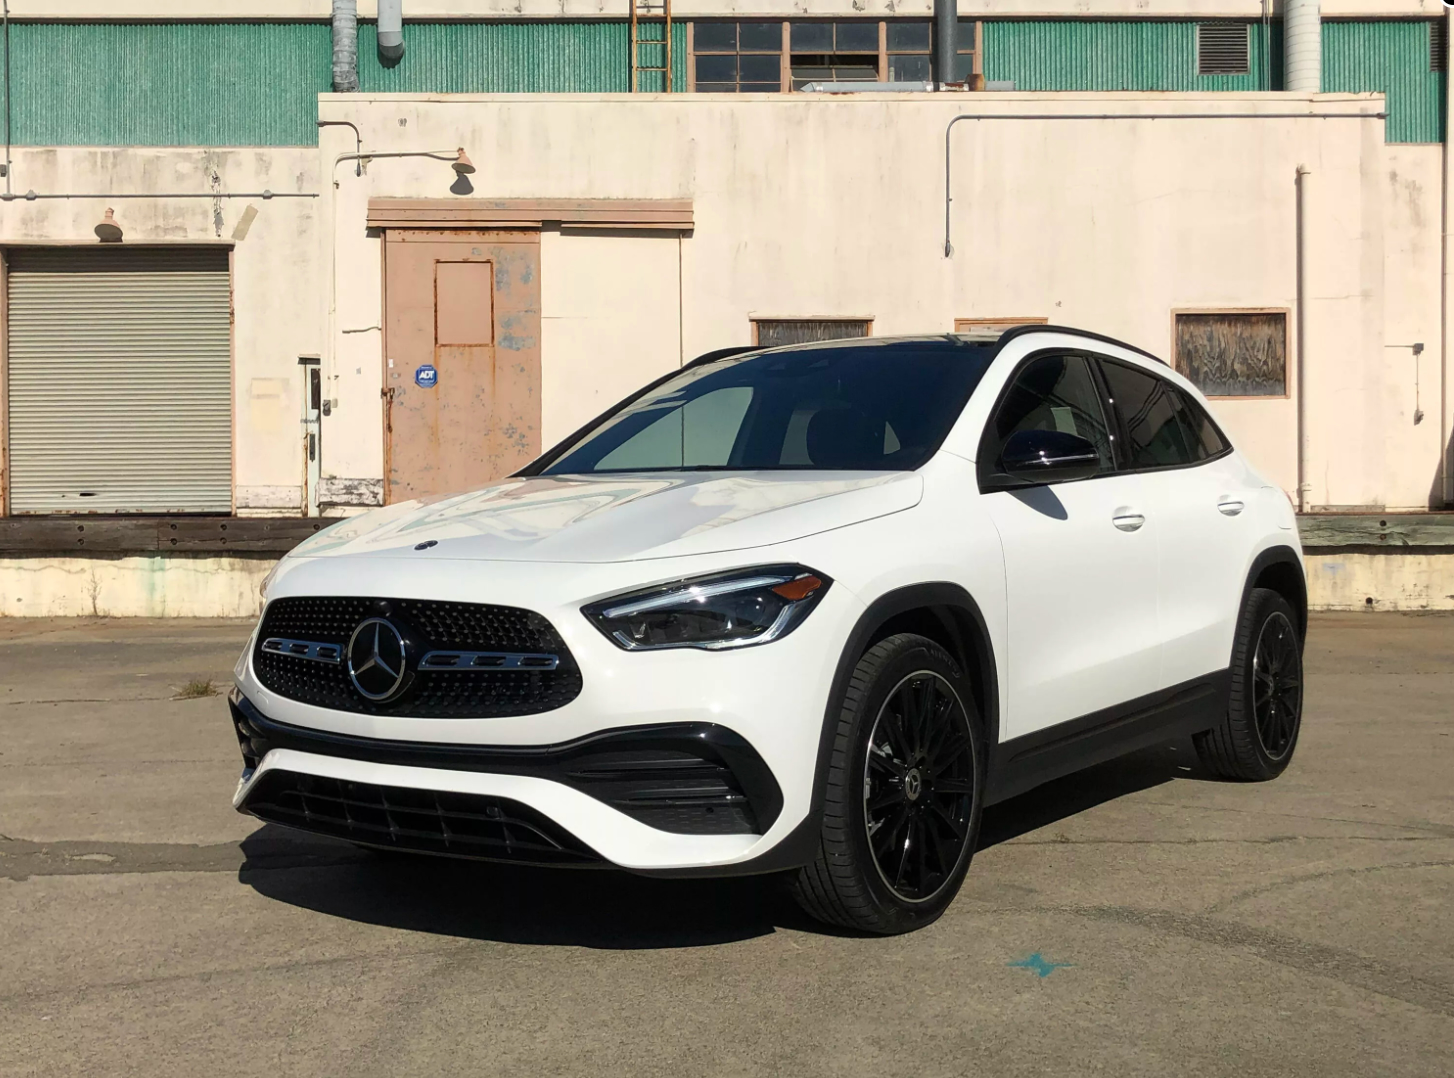car: (226, 324, 1307, 940)
